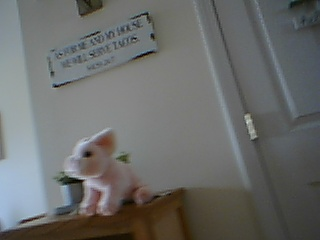piggy: (63, 126, 152, 217)
